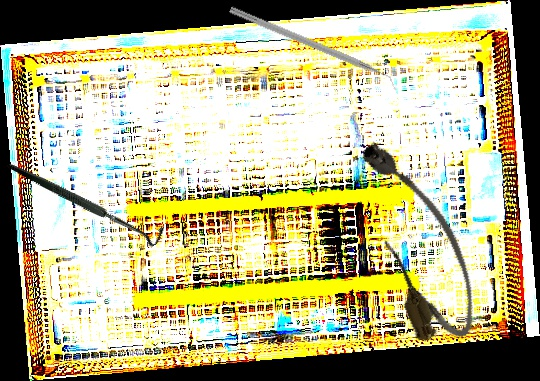Cannula: (347, 126, 490, 353)
Chopper: (224, 5, 402, 95)
Hook Surgical: (6, 112, 170, 289)
